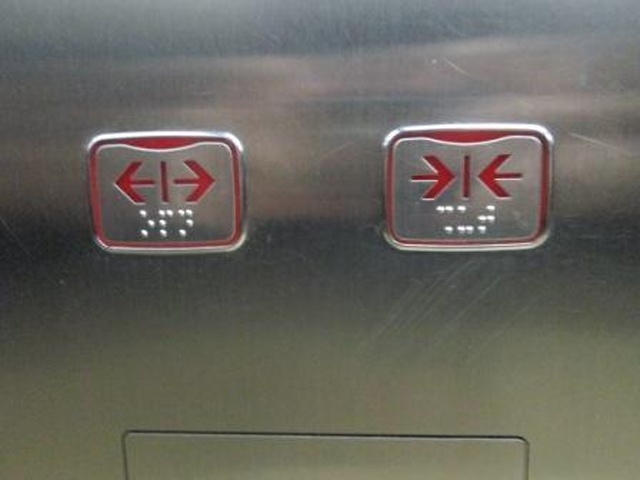close: (380, 122, 557, 256)
open: (82, 128, 252, 260)
